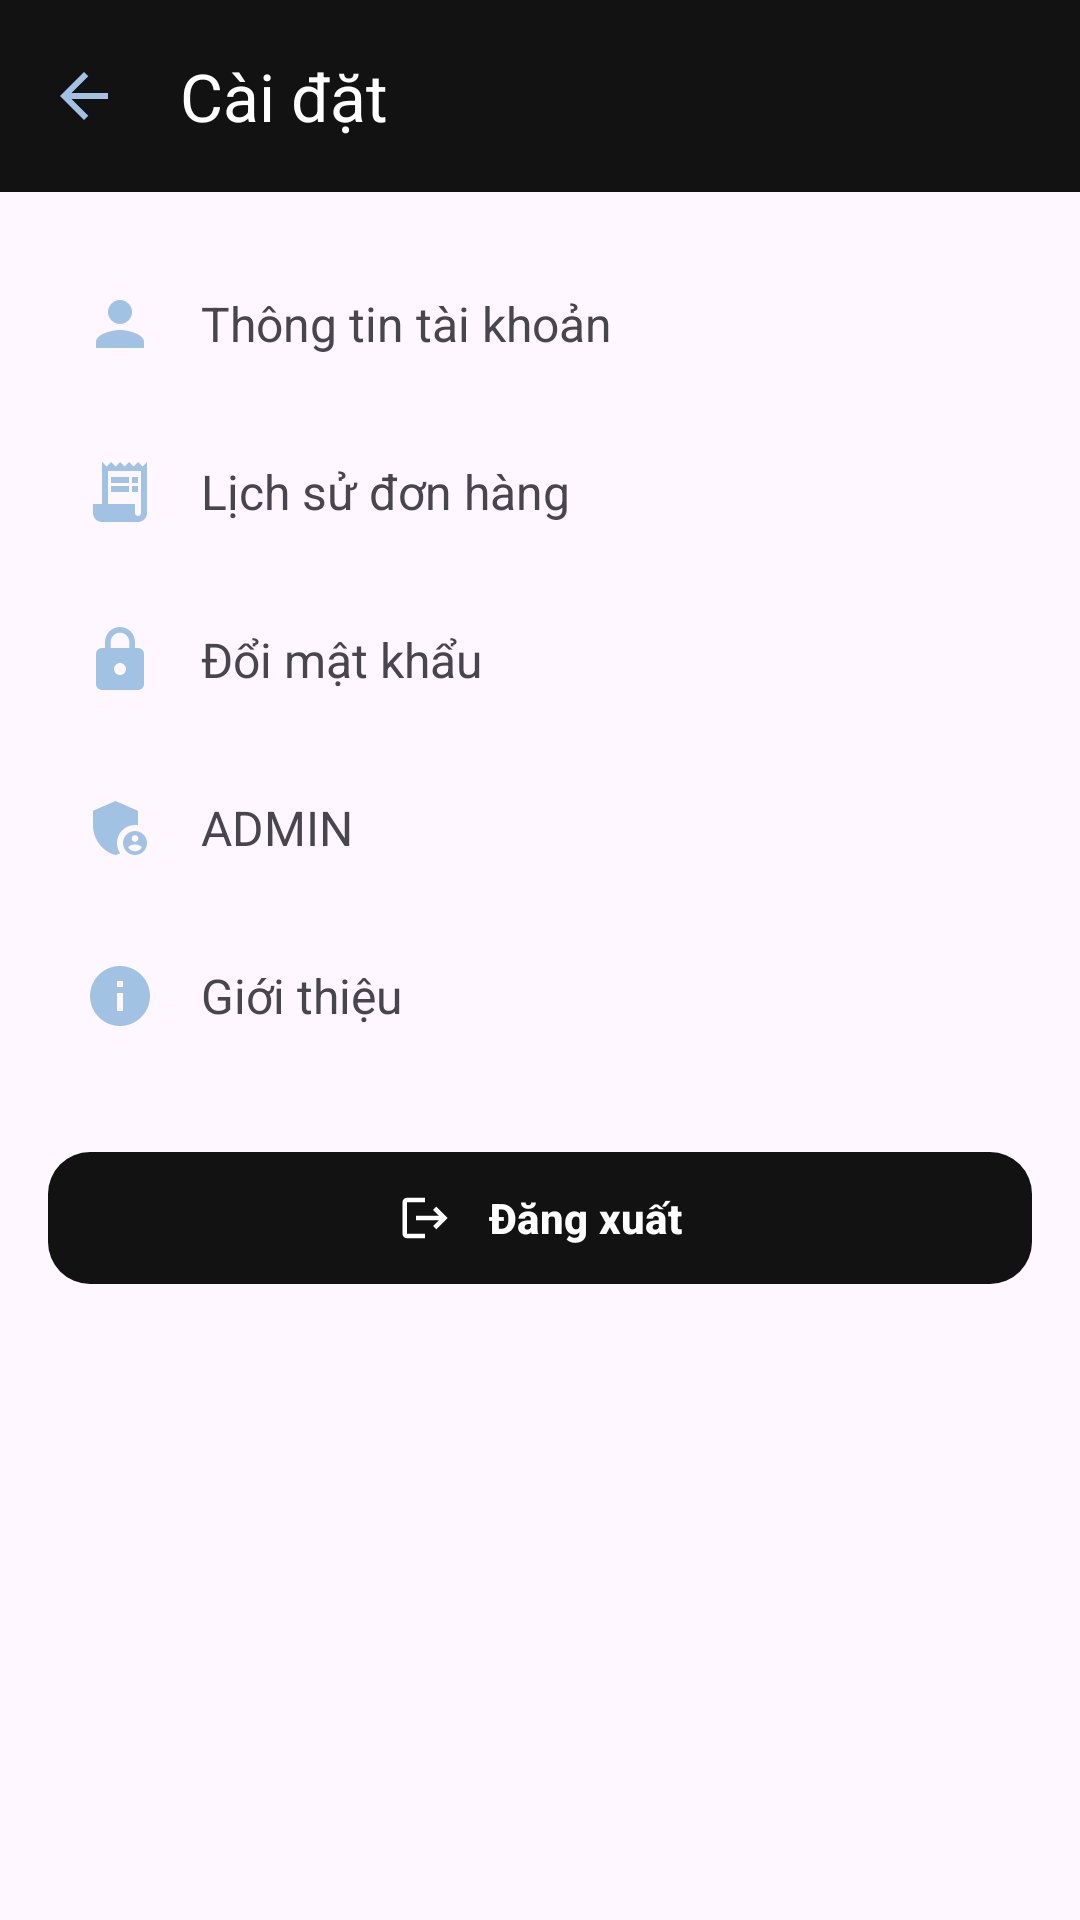

Icons on this 1080px×1920px Android screen, each with its box as (x1, y1, x2, y2):
info: (90, 966, 150, 1026)
lock: (96, 627, 144, 690)
person: (96, 300, 144, 348)
receipt long: (93, 462, 147, 522)
